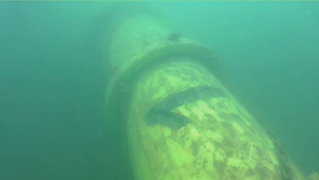1: (142, 85, 231, 132)
pipe: (92, 1, 319, 180)
